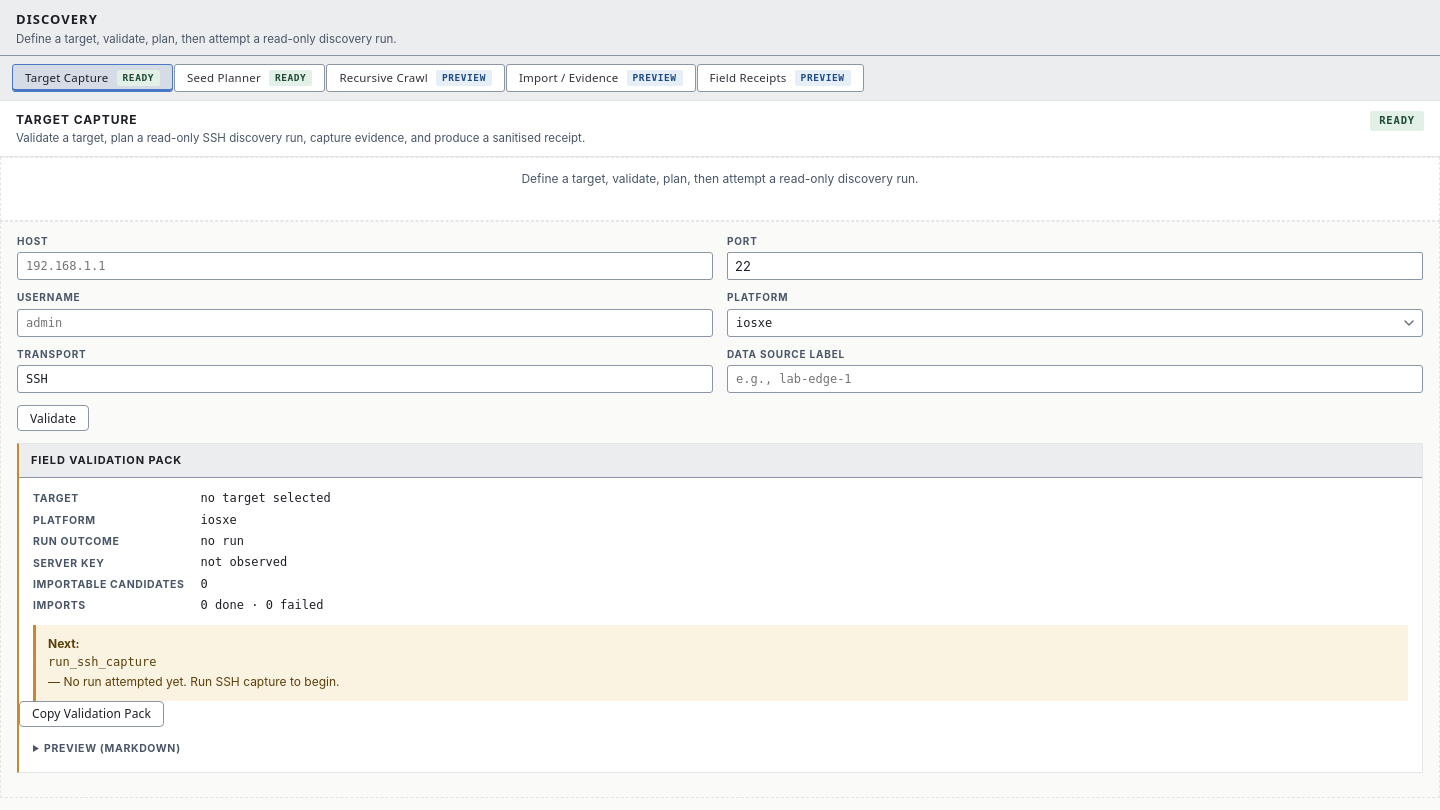
Scenario: DiscoveryMode — workbench (V1BH) › Import / Evidence shows route hint to Topology
Click the tab with test id "mwb-tool-import_evidence": (601, 78) [506, 64, 696, 92]
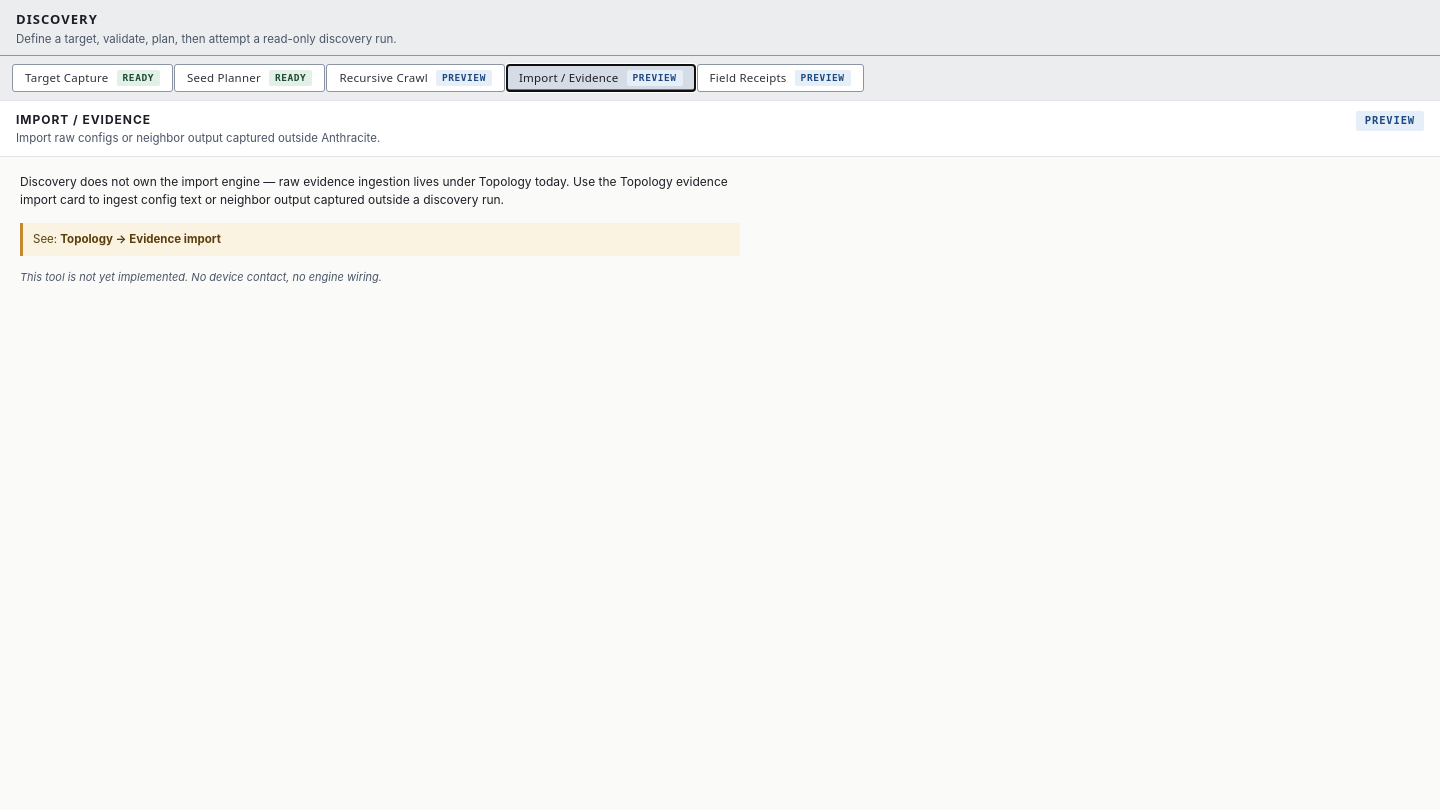
Expected: the text "Topology → Evidence import" is shown, [60, 232, 221, 246]
